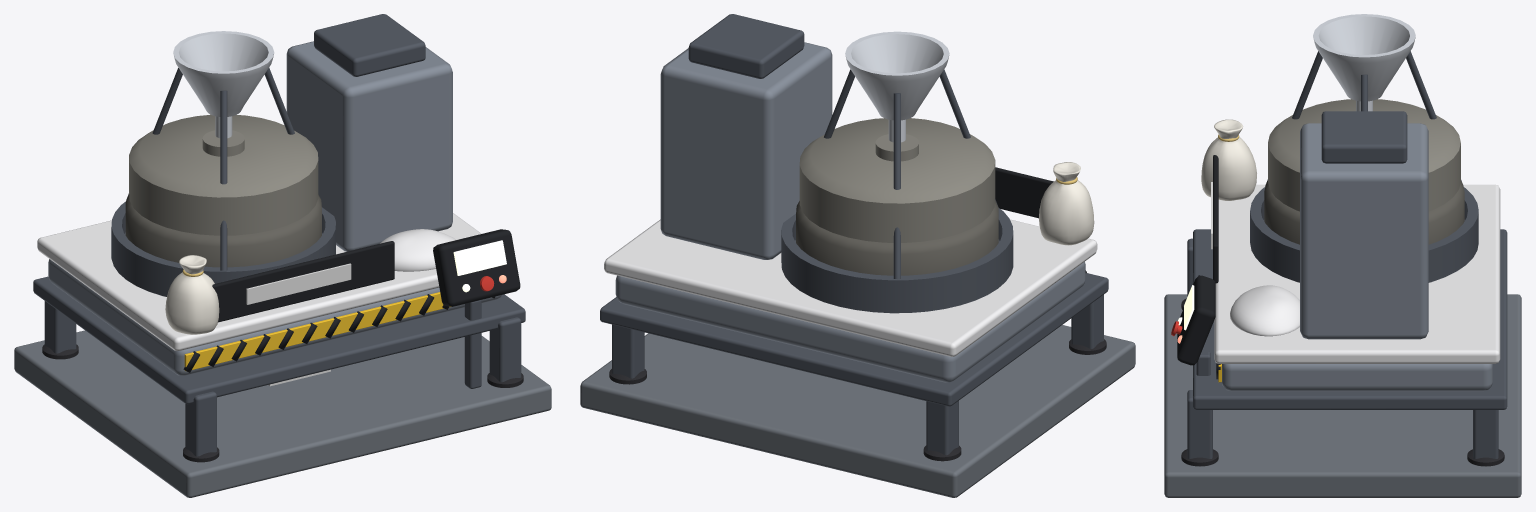
File: StarchMill.fbx
3 renders of one model, left to right at view 1: azimuth 30°, elevation 25°; view 2: azimuth 150°, elevation 25°; view 3: azimuth 270°, elevation 25°, orthographic. The views are drawn at different scales.
Visible parts, largest first — view 1: Body__Plate, Body__Steel, Body__MetalDark, Stones__Stone, Body__White, Body__Black, Stones__StoneDark, Body__Chrome, Body__Yellow, Body__FabricWhite, Body__NeonWhite!1, Body__NeonGreen (+1 smaller); view 2: Body__Plate, Body__Steel, Body__MetalDark, Body__White, Stones__Stone, Stones__StoneDark, Body__Chrome, Body__FabricWhite, Body__Black, Body__Rubber; view 3: Body__Plate, Body__Steel, Body__MetalDark, Body__White, Stones__Stone, Body__Chrome, Body__FabricWhite, Body__Black, Stones__StoneDark, Body__Rubber.
Boxes of the visible parts, left/top/right/bottom form: Body__Plate: left=14, top=330, right=551, bottom=497; Body__Steel: left=48, top=41, right=501, bottom=375; Body__MetalDark: left=33, top=14, right=525, bottom=456; Stones__Stone: left=129, top=114, right=318, bottom=235; Body__White: left=37, top=213, right=481, bottom=350; Body__Black: left=183, top=229, right=520, bottom=372; Stones__StoneDark: left=125, top=194, right=321, bottom=267; Body__Chrome: left=173, top=31, right=274, bottom=138; Body__Yellow: left=184, top=292, right=451, bottom=370; Body__FabricWhite: left=165, top=255, right=219, bottom=334; Body__NeonWhite!1: left=246, top=263, right=351, bottom=304; Body__NeonGreen: left=453, top=240, right=506, bottom=292; Body__Plate: left=580, top=325, right=1135, bottom=497; Body__Steel: left=615, top=42, right=1085, bottom=382; Body__MetalDark: left=600, top=14, right=1108, bottom=455; Body__White: left=604, top=219, right=1097, bottom=356; Stones__Stone: left=799, top=118, right=995, bottom=242; Stones__StoneDark: left=796, top=200, right=998, bottom=275; Body__Chrome: left=845, top=31, right=949, bottom=142; Body__FabricWhite: left=1039, top=162, right=1094, bottom=245; Body__Black: left=995, top=167, right=1086, bottom=272; Body__Rubber: left=609, top=339, right=1106, bottom=461; Body__Plate: left=1164, top=294, right=1521, bottom=497; Body__Steel: left=1221, top=123, right=1492, bottom=391; Body__MetalDark: left=1187, top=51, right=1507, bottom=458; Body__White: left=1214, top=184, right=1500, bottom=363; Stones__Stone: left=1268, top=99, right=1460, bottom=211; Body__Chrome: left=1313, top=14, right=1415, bottom=111; Body__FabricWhite: left=1201, top=119, right=1256, bottom=200; Body__Black: left=1177, top=155, right=1220, bottom=379; Stones__StoneDark: left=1264, top=181, right=1464, bottom=244; Body__Rubber: left=1181, top=298, right=1504, bottom=466.
Bounding box in the file's own units: 6 × 5.89 × 5.
